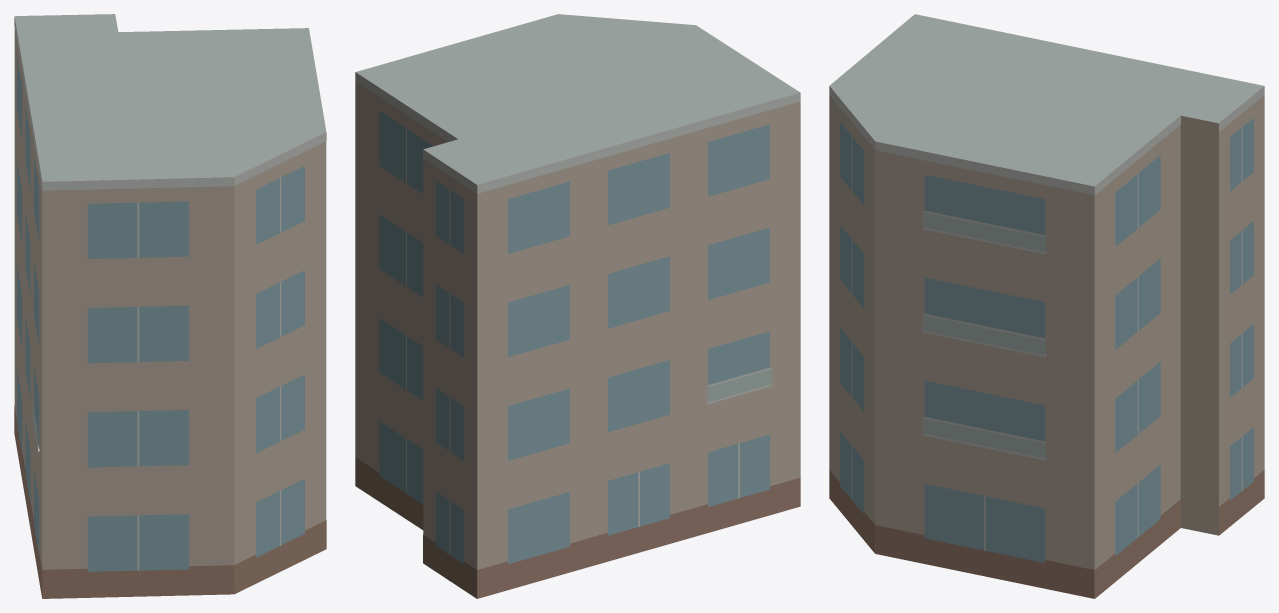
File: survey-upis-32670618.glb
The picture shows the model from 3 angles, left to right: view 1: azimuth 30°, elevation 25°; view 2: azimuth 150°, elevation 25°; view 3: azimuth 270°, elevation 25°; orthographic projection.
Parts seen in each view (by area): view 1: survey-upis-32670618.tmp; view 2: survey-upis-32670618.tmp; view 3: survey-upis-32670618.tmp.
Part boxes in pixels (x1,y1,x2,y2): survey-upis-32670618.tmp: [14, 14, 326, 598]; survey-upis-32670618.tmp: [355, 14, 800, 598]; survey-upis-32670618.tmp: [829, 14, 1264, 598].
Size of the model in its own units: 10.24 by 11.4 by 10.92.
